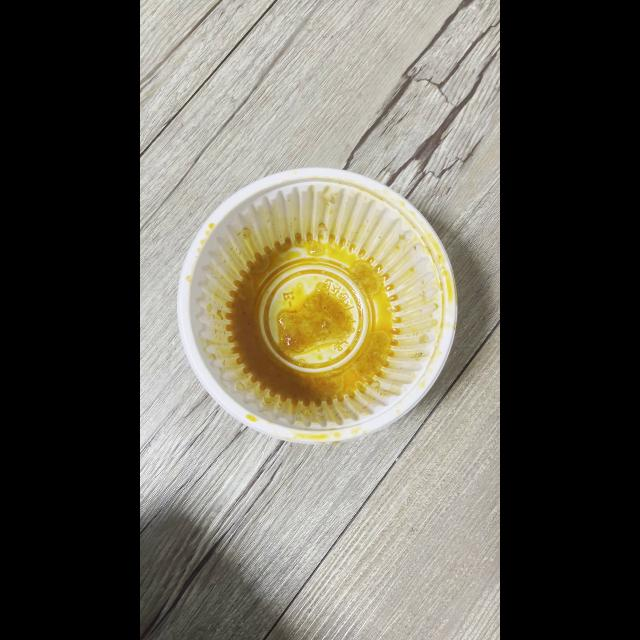dirty: (177, 169, 456, 435)
